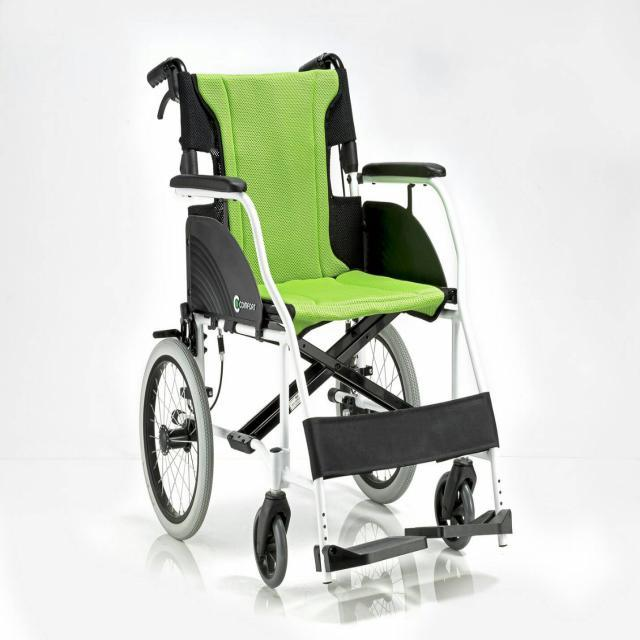wheelchair: (130, 41, 514, 596)
